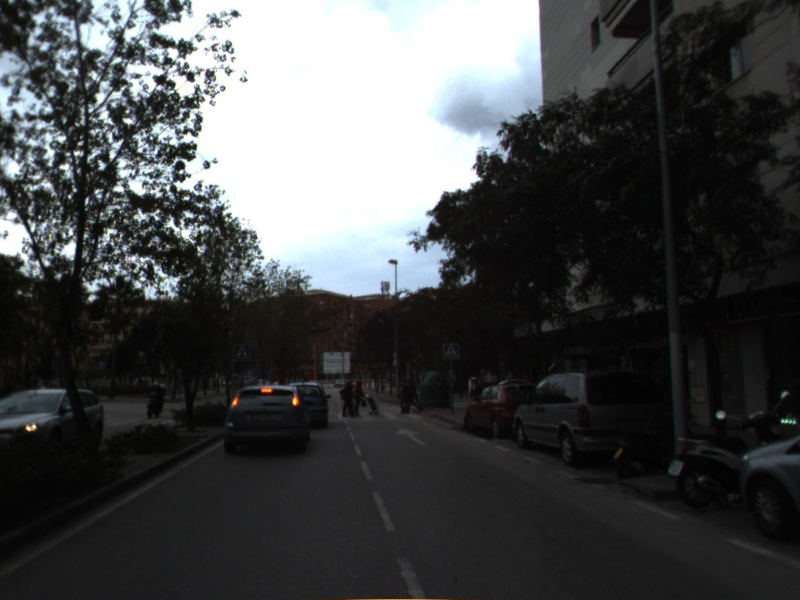STRAIGHT: (395, 426, 430, 447)
